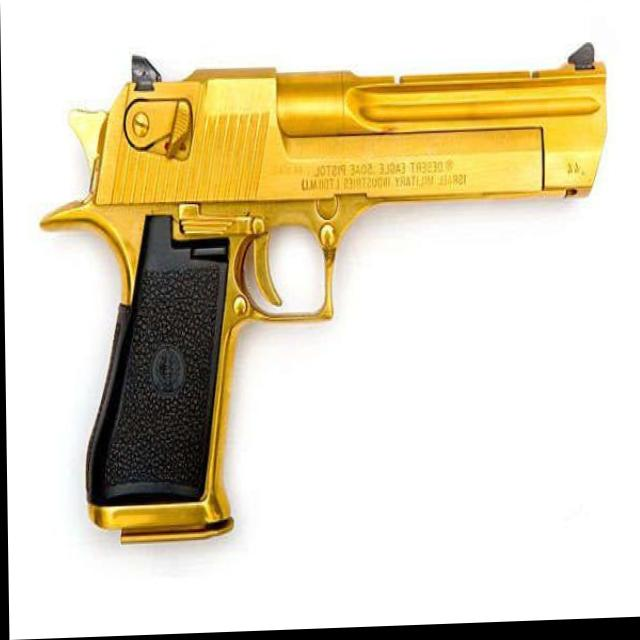handgun: (34, 31, 622, 550)
